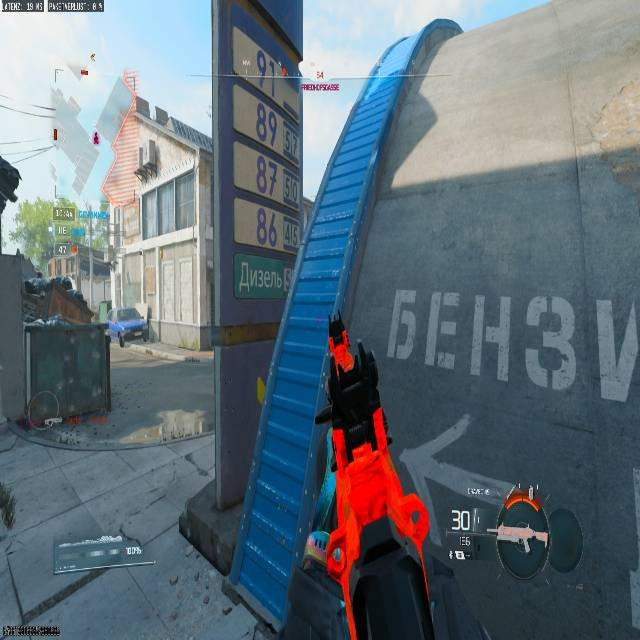head: (328, 317, 349, 365), (34, 270, 42, 278)
